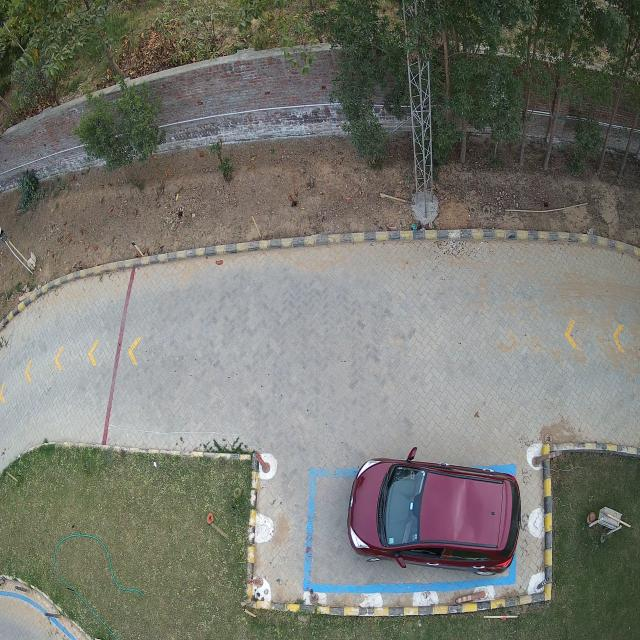car: (348, 448, 521, 573)
